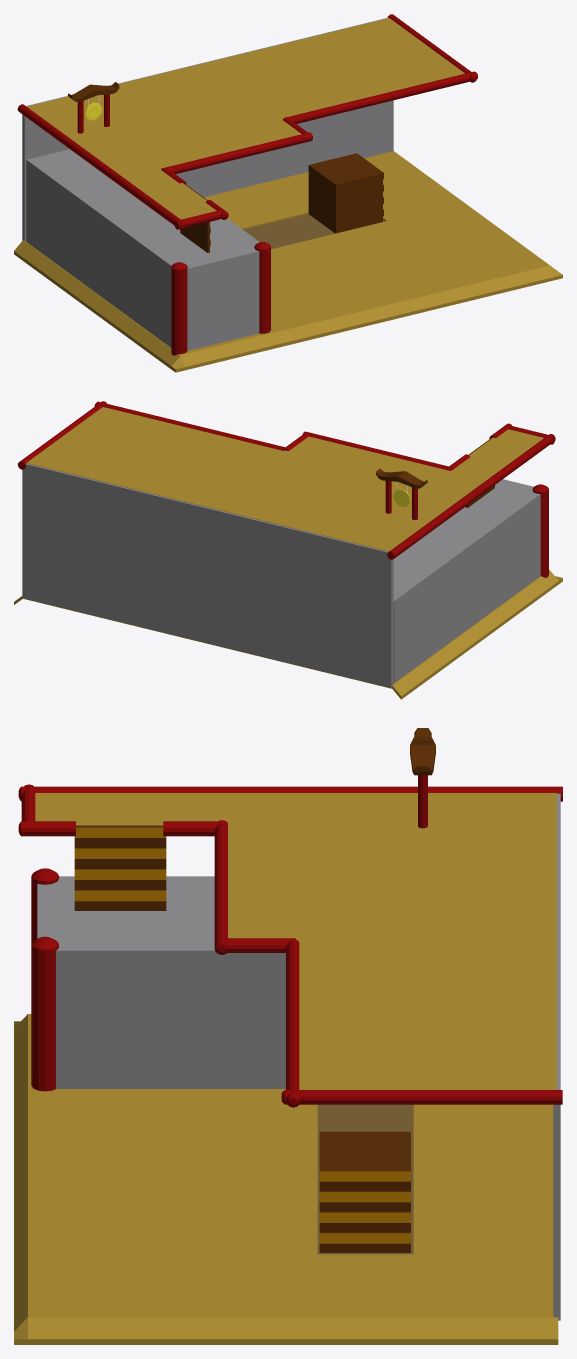
File: temple_assembly.fbx
The picture shows the model from 3 angles, top to bottom: view 1: azimuth 30°, elevation 25°; view 2: azimuth 150°, elevation 25°; view 3: azimuth 270°, elevation 25°; orthographic projection. The views are drawn at different scales.
Parts seen in each view (by area): view 1: Cube, Cube.005, Cube.002, Cube.001, Cube.003, Cylinder.008, Cylinder.010, Cylinder.005, Cylinder.011, Cylinder.004, Cube.004, Cylinder.009 (+1 smaller); view 2: Cube.001, Cube.005, Cube.002, Cube, Cylinder.008, Cylinder.010, Cylinder.005, Cylinder.011, Cylinder.009, Cube.006, Cylinder; view 3: Cube, Cube.005, Cube.002, Cube.003, Cube.004, Cylinder.009, Cylinder.004, Cylinder.008, Cube.001, Cylinder.010, Cylinder.011, Cube.006 (+4 smaller).
Boxes of the visible parts, x1,y1,x2,y2 form: Cube: (14,151,562,372); Cube.005: (27,18,464,219); Cube.002: (26,149,259,350); Cube.001: (22,18,393,240); Cube.003: (308,153,383,233); Cylinder.008: (17,104,186,230); Cylinder.010: (286,71,477,123); Cylinder.005: (171,262,187,355); Cylinder.011: (161,132,312,173); Cylinder.004: (254,242,270,333); Cube.004: (180,183,210,252); Cylinder.009: (387,14,477,82); Cube.001: (22,463,393,687); Cube.005: (27,407,543,551); Cube.002: (393,479,540,683); Cube: (14,570,562,699); Cylinder.008: (387,434,555,559); Cylinder.010: (94,401,285,450); Cylinder.005: (532,484,548,577); Cylinder.011: (302,431,453,470); Cylinder.009: (17,401,106,469); Cube.006: (376,468,427,488); Cylinder: (385,481,417,519); Cube: (14,1014,558,1344); Cube.005: (35,793,556,1089); Cube.002: (37,876,285,1088); Cube.003: (319,1131,410,1252); Cube.004: (74,826,166,910); Cylinder.009: (281,1090,562,1104); Cylinder.004: (31,936,58,1091); Cylinder.008: (18,786,562,801); Cube.001: (553,793,560,1320); Cylinder.010: (286,939,300,1107); Cylinder.011: (214,820,227,954); Cube.006: (410,728,435,775).
Size of the model in its own units: 3366 by 1551 by 2456.
